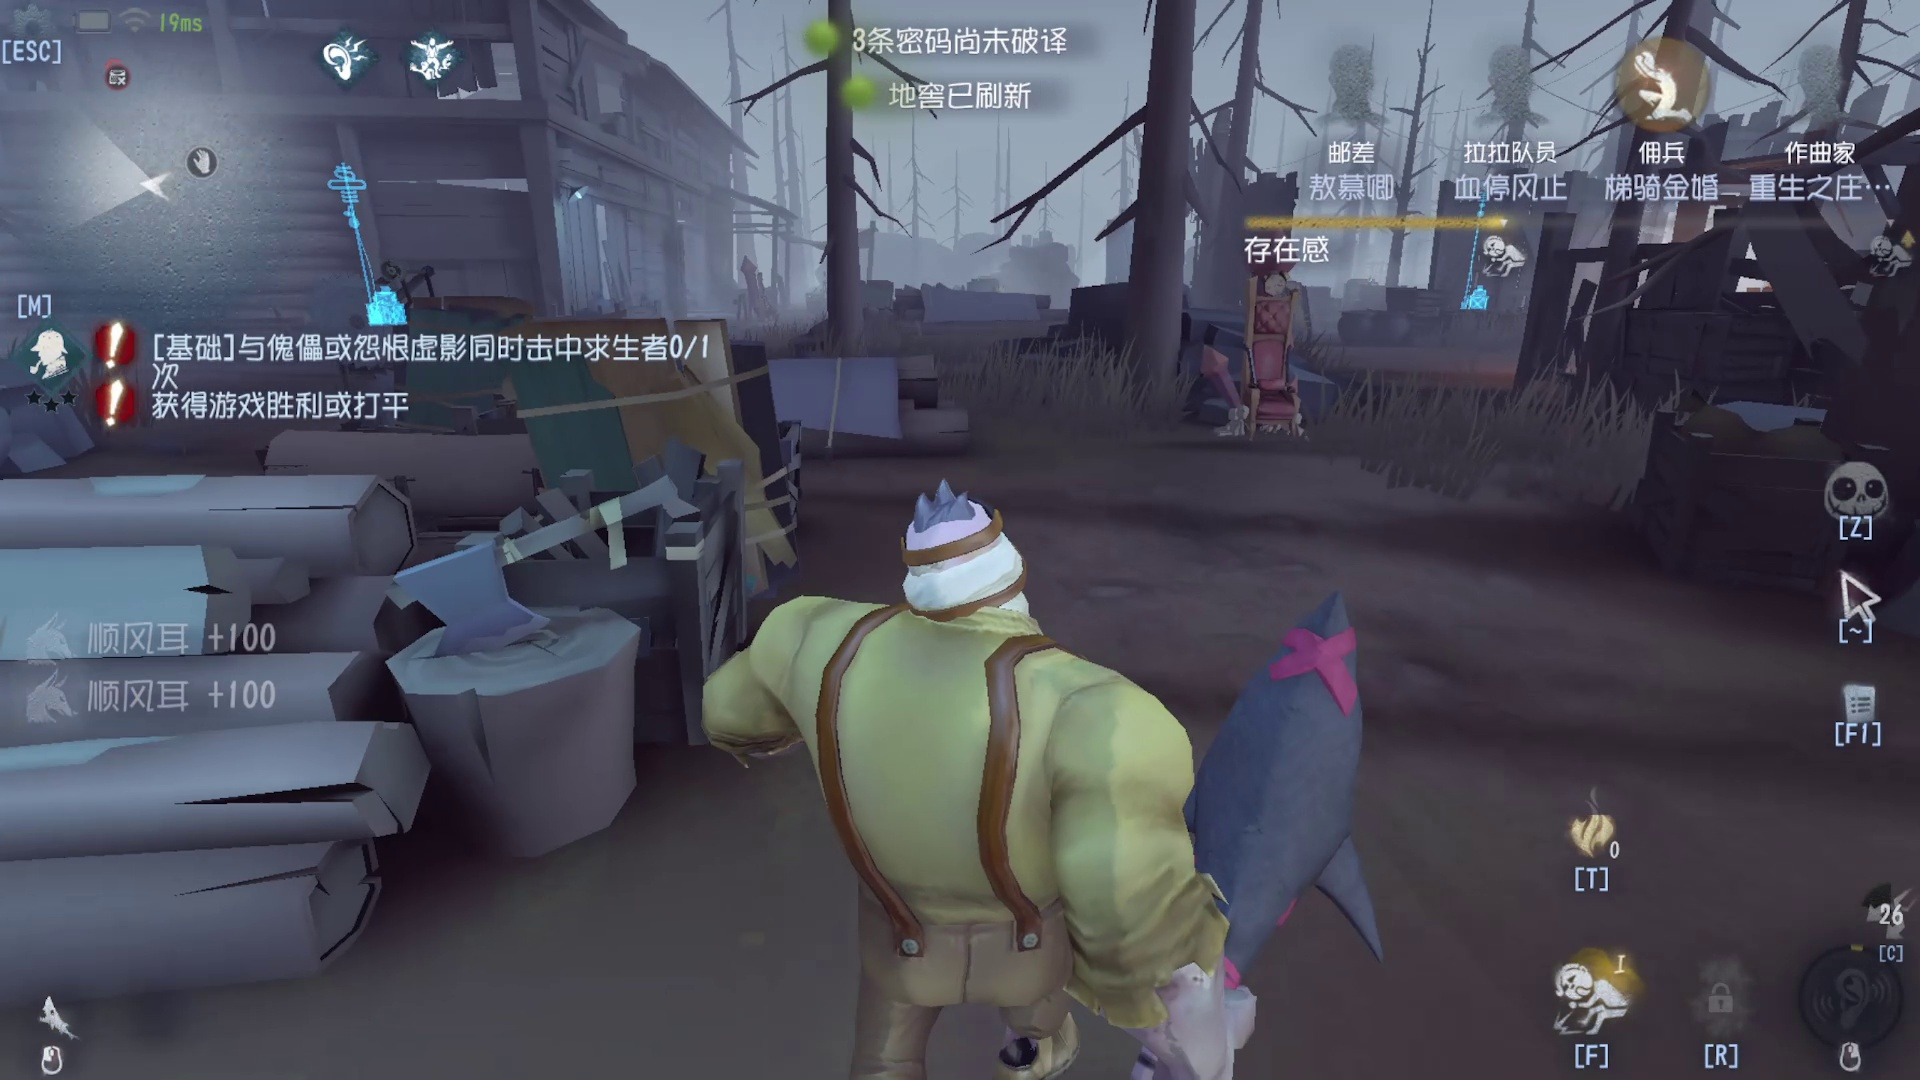密码机: (297, 158, 435, 351), (1447, 156, 1538, 345)
木板: (497, 303, 822, 534)
狂欢之椅: (1162, 219, 1344, 469)
